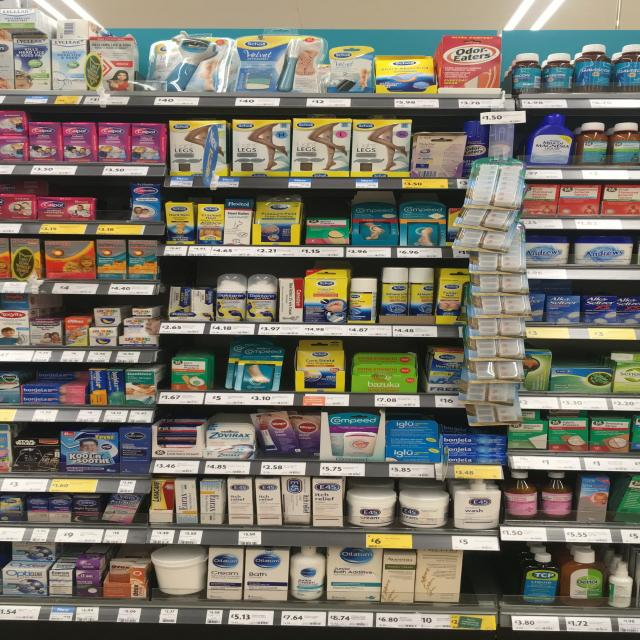void: (461, 547, 495, 631), (496, 541, 522, 630), (99, 178, 131, 236)
